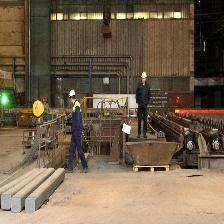helmet: (68, 89, 76, 101), (141, 72, 147, 83)
no-vest: (69, 103, 85, 135), (136, 82, 151, 110)
person: (64, 89, 90, 176), (135, 68, 154, 140)
